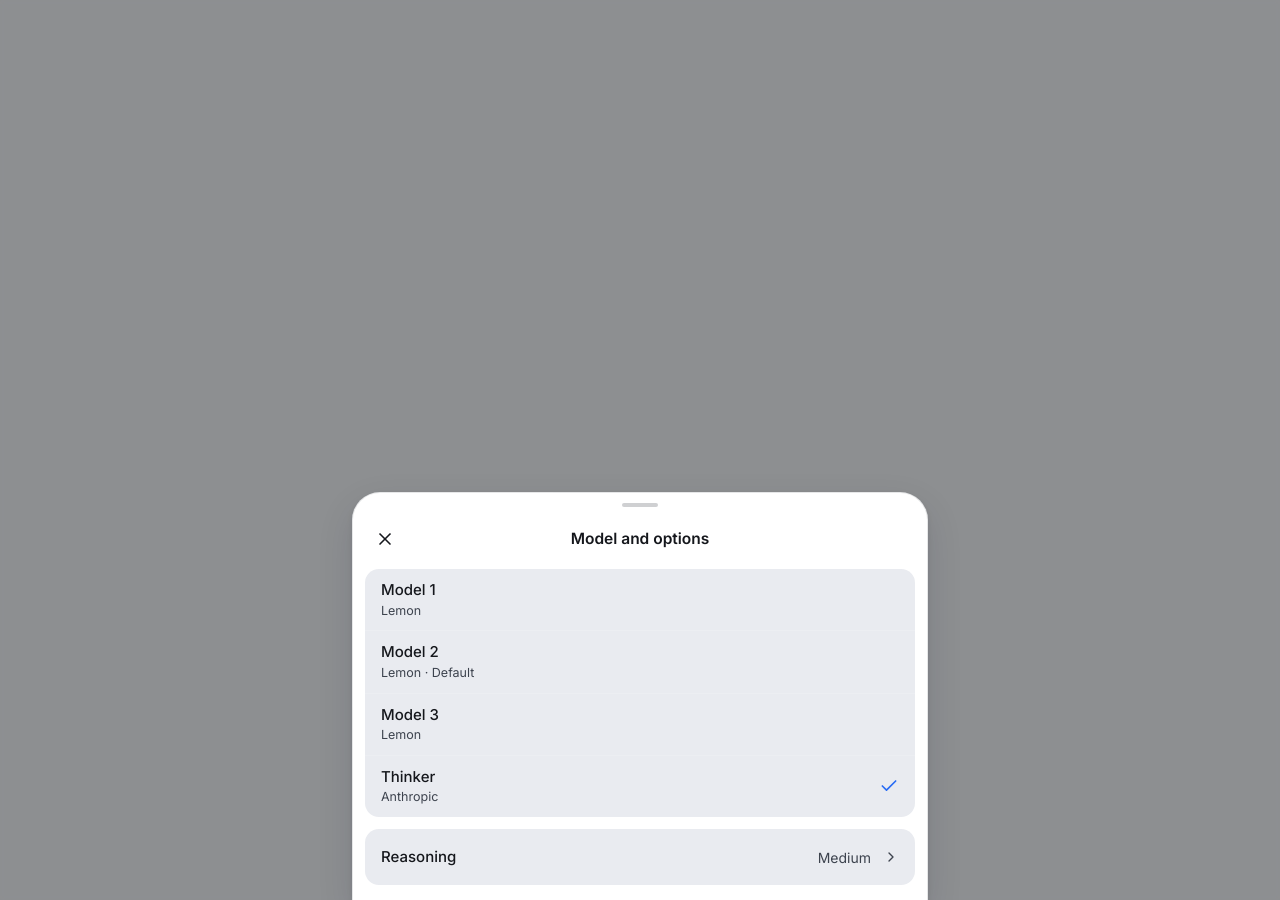
Test: the message box’s options sheet › opens the reasoning bar onto the slider
Click the button "Reasoning Medium" at x=419, y=856, box [365,829,915,885]
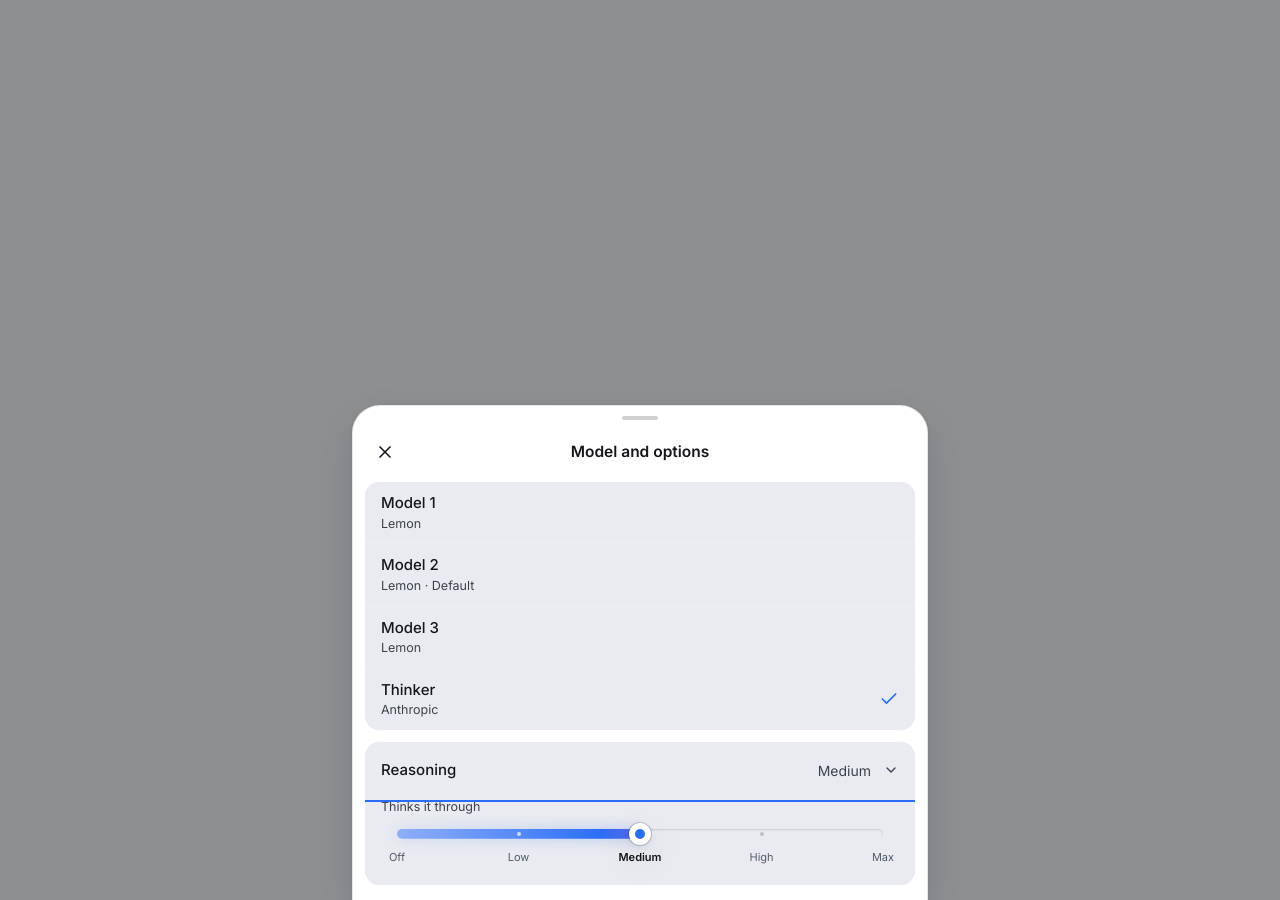
Result: the slider named "Reasoning effort" is shown at [381,817,899,869]
